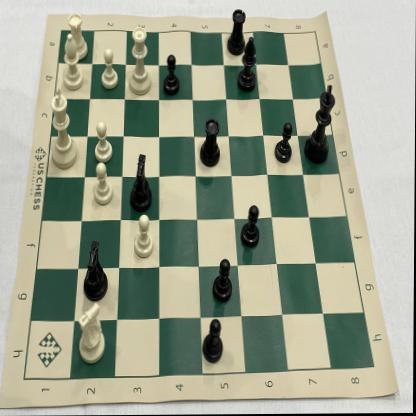black-bishop: (237, 33, 259, 97)
black-king: (303, 81, 340, 168)
black-knight: (81, 236, 114, 307), (127, 152, 156, 216)
black-pawn: (211, 256, 236, 305), (239, 201, 263, 252), (202, 315, 226, 365), (161, 53, 184, 99), (275, 119, 295, 167)
black-rook: (197, 115, 224, 172), (224, 3, 248, 60)
white-bishop: (60, 31, 85, 93)
white-king: (46, 86, 82, 172)
white-knight: (74, 300, 110, 367)
white-pawn: (131, 213, 157, 261), (91, 160, 116, 208), (98, 45, 121, 93), (92, 119, 114, 165)
white-queen: (126, 21, 156, 99)
white-rook: (66, 10, 91, 63)
